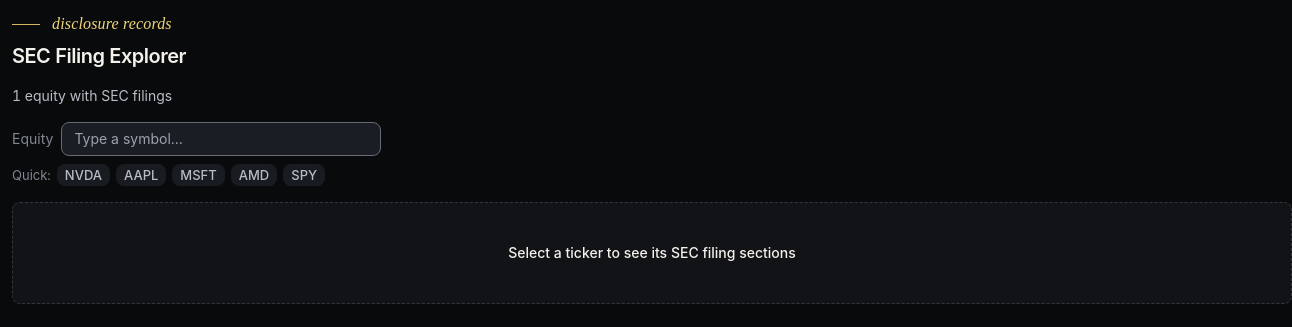
SecFilingExplorer › unknown error without message falls back to error code
Expected: the text "1 equity with SEC filings" is shown, [12,87,172,104]
Step 1. Focus the dropdown → (221, 139), box [62,123,380,155]
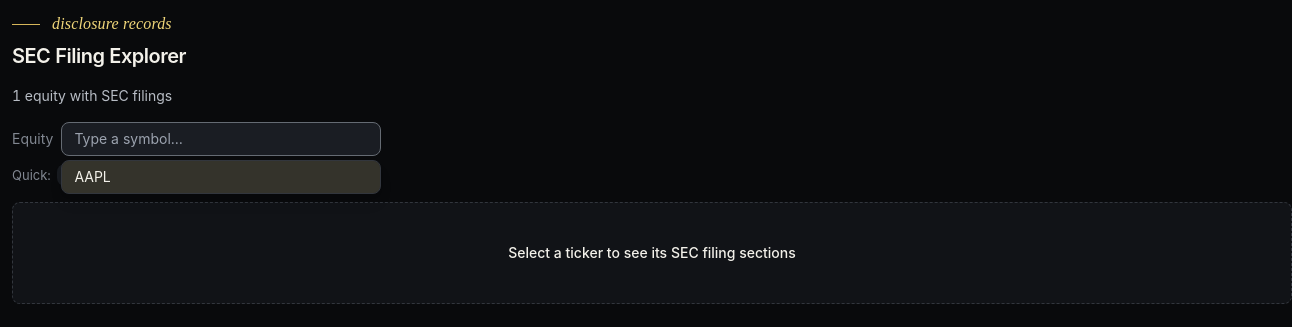
Result: the option "AAPL" is shown
Step 2. Press the mouse on the option "AAPL" → (93, 176), box [62,161,380,193]
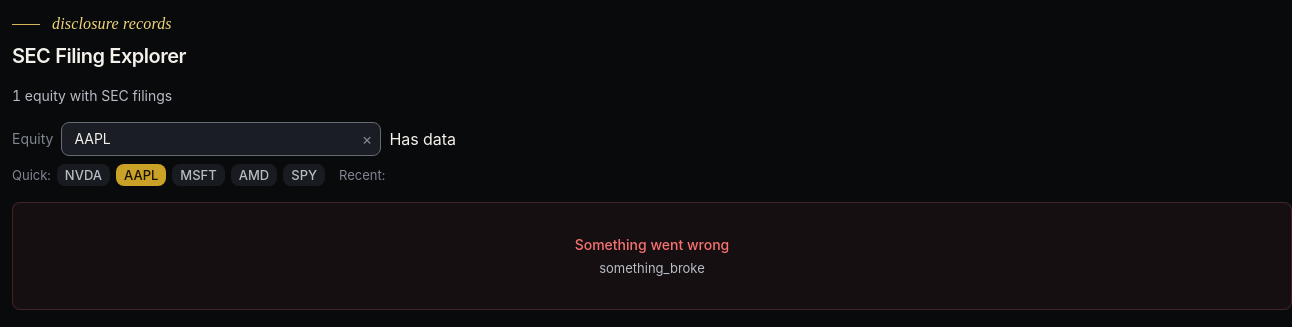
Result: the text "something_broke" is shown at [599,260,705,276]
